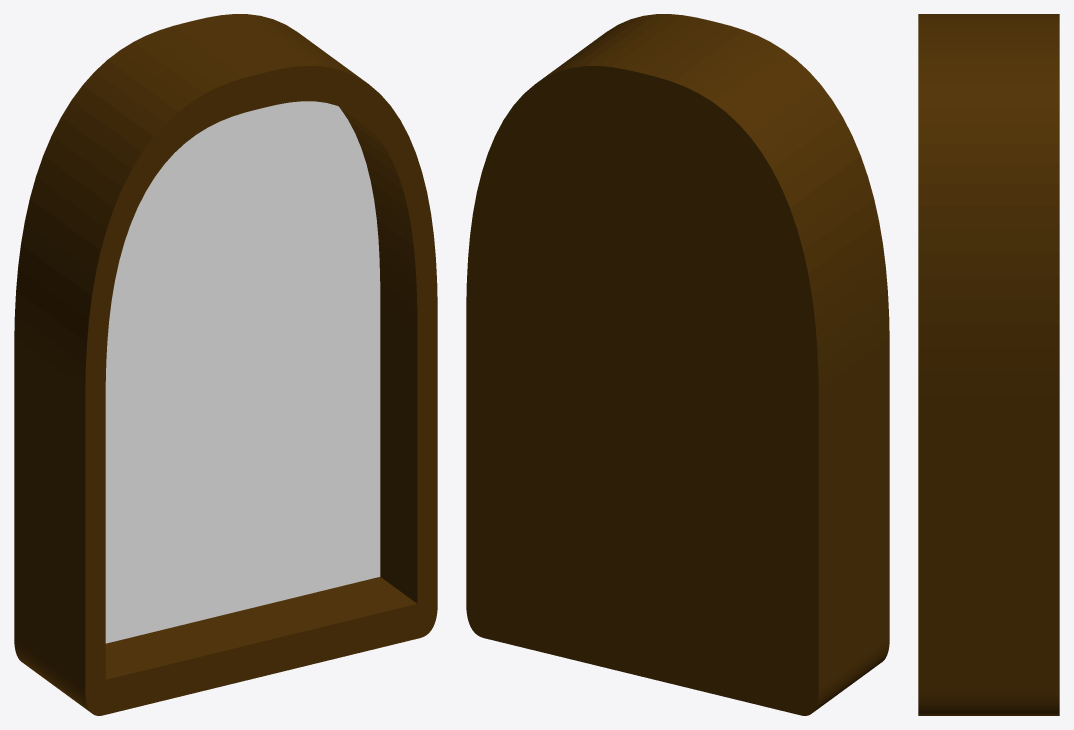
The model's file is window.fbx.
3 renders of one model, left to right at view 1: azimuth 30°, elevation 25°; view 2: azimuth 150°, elevation 25°; view 3: azimuth 270°, elevation 25°, orthographic.
Parts seen in each view (by area): view 1: 立方体.013; view 2: 立方体.013; view 3: 立方体.013.
Boxes of the visible parts, left/top/right/bottom form: 立方体.013: left=14, top=14, right=437, bottom=715; 立方体.013: left=466, top=14, right=889, bottom=715; 立方体.013: left=918, top=14, right=1059, bottom=715.
Bounding box in the file's own units: 110 × 181 × 38.53.
1 material, 1 textured.
